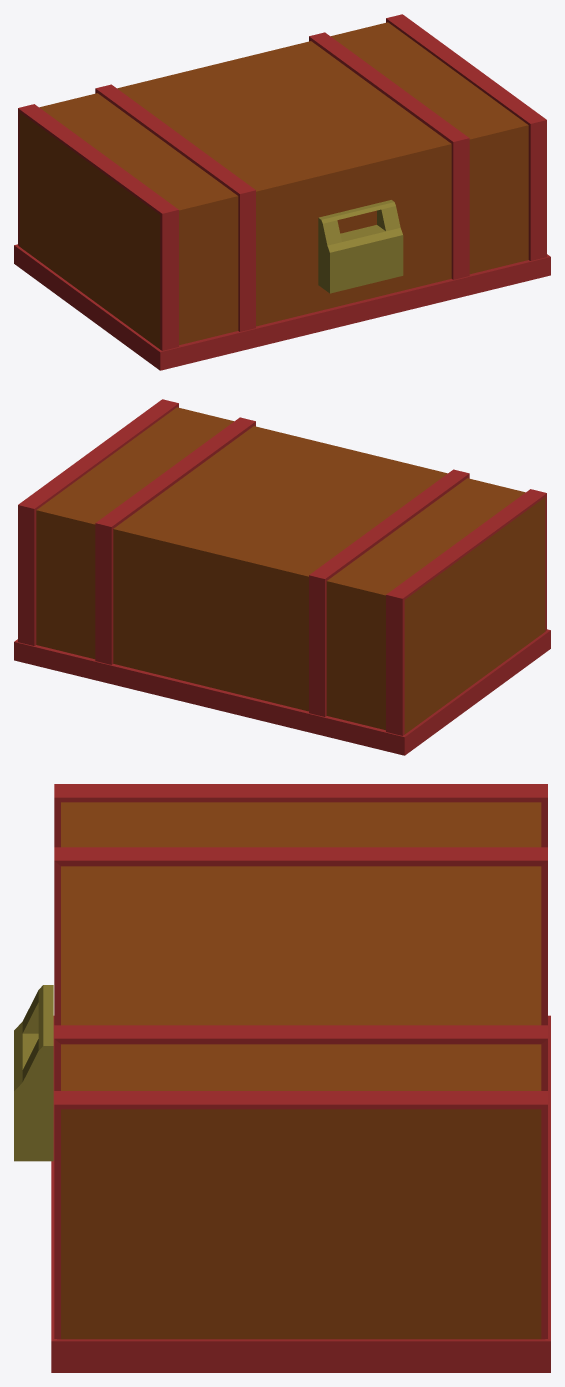
File: TreasureBox_closed.fbx
3 renders of one model, top to bottom at view 1: azimuth 30°, elevation 25°; view 2: azimuth 150°, elevation 25°; view 3: azimuth 270°, elevation 25°, orthographic. The views are drawn at different scales.
Parts seen in each view (by area): view 1: TreasureBox_closed; view 2: TreasureBox_closed; view 3: TreasureBox_closed.
Boxes of the visible parts, x1,y1,x2,y2 form: TreasureBox_closed: (14, 14, 550, 370); TreasureBox_closed: (14, 399, 550, 755); TreasureBox_closed: (14, 784, 550, 1372).
Bounding box in the file's own units: 6235 × 2384 × 4344.
